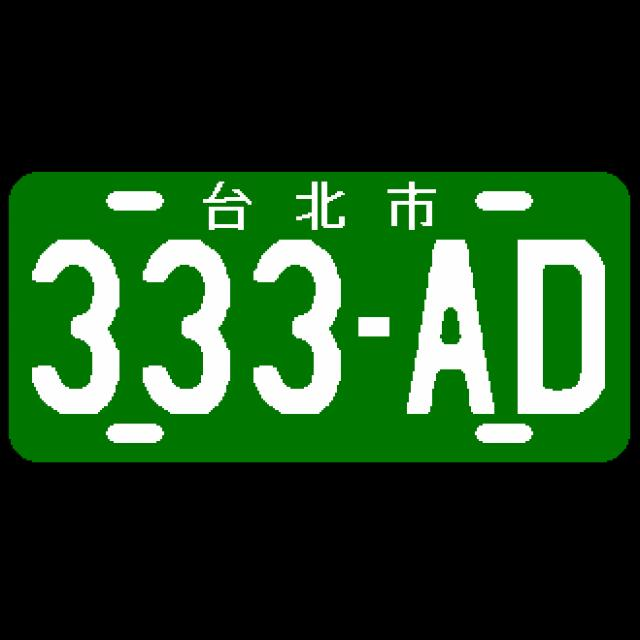plate: (6, 170, 634, 468)
